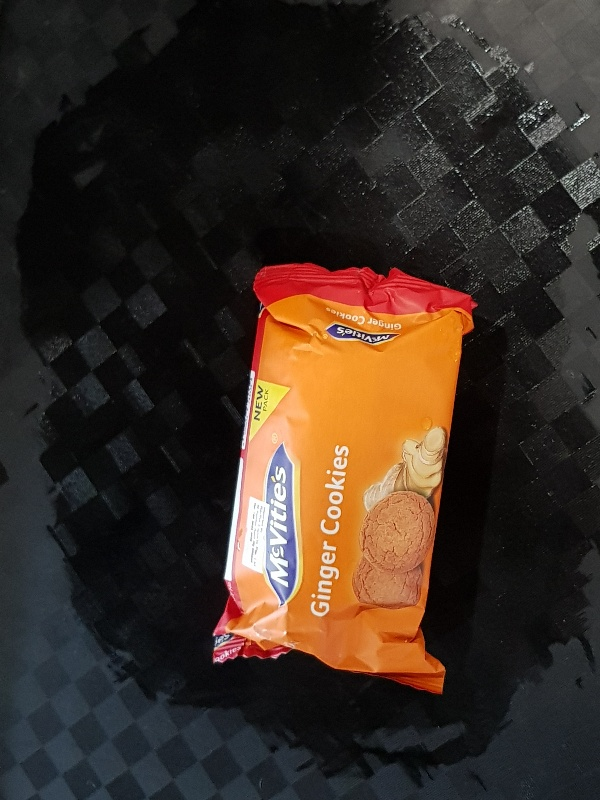McVitie's Ginger Cookies: (208, 262, 478, 695)
